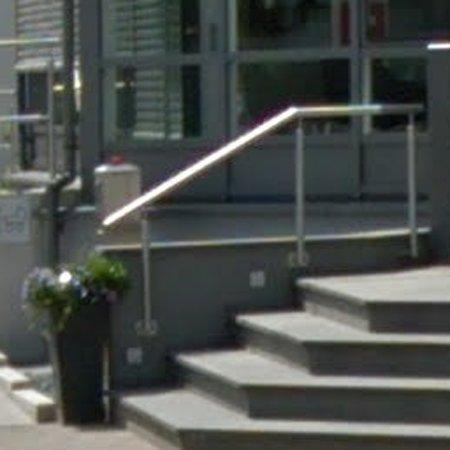stairs: (123, 267, 450, 450)
